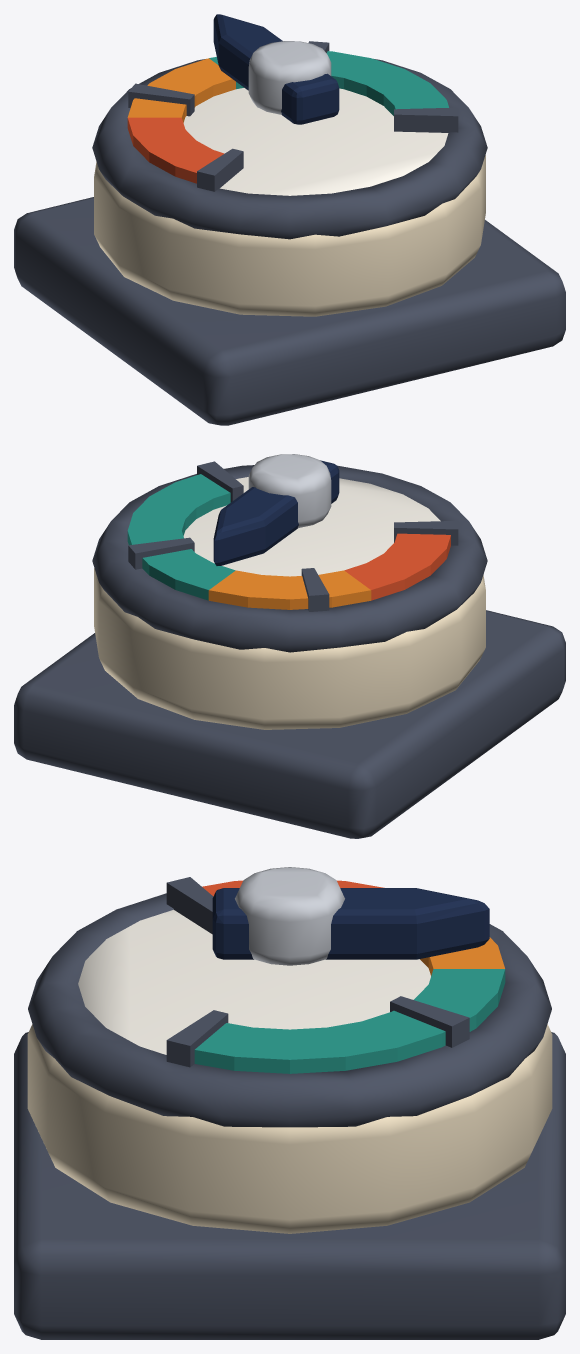
File: Ctrl_Gauge.glb
The picture shows the model from 3 angles, top to bottom: view 1: azimuth 30°, elevation 25°; view 2: azimuth 150°, elevation 25°; view 3: azimuth 270°, elevation 25°; orthographic projection. The views are drawn at different scales.
Parts seen in each view (by area): view 1: Ctrl_Gauge.Base, Ctrl_Gauge.Housing, Ctrl_Gauge.Dial, Ctrl_Gauge.Move_Needle; view 2: Ctrl_Gauge.Base, Ctrl_Gauge.Housing, Ctrl_Gauge.Dial, Ctrl_Gauge.Move_Needle; view 3: Ctrl_Gauge.Housing, Ctrl_Gauge.Base, Ctrl_Gauge.Dial, Ctrl_Gauge.Move_Needle.
Part boxes in pixels (x1,y1,x2,y2): Ctrl_Gauge.Base: [14, 197, 565, 425]; Ctrl_Gauge.Housing: [92, 59, 487, 316]; Ctrl_Gauge.Dial: [127, 41, 458, 195]; Ctrl_Gauge.Move_Needle: [213, 14, 339, 124]; Ctrl_Gauge.Base: [14, 610, 565, 838]; Ctrl_Gauge.Housing: [92, 465, 487, 729]; Ctrl_Gauge.Dial: [127, 461, 458, 611]; Ctrl_Gauge.Move_Needle: [213, 454, 339, 565]; Ctrl_Gauge.Housing: [27, 893, 552, 1233]; Ctrl_Gauge.Base: [14, 1032, 565, 1339]; Ctrl_Gauge.Dial: [78, 877, 505, 1073]; Ctrl_Gauge.Move_Needle: [212, 867, 489, 965].
Size of the model in its own units: 0.2 by 0.14 by 0.2.
Materials: 1 (1 with a texture image).
